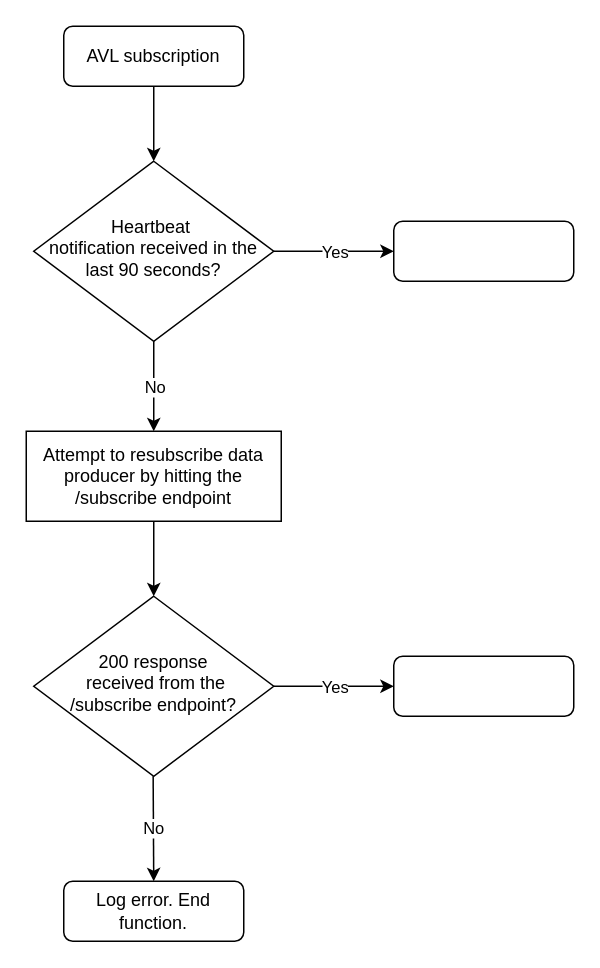
Image size: 600x968. Some labels were removed from this diagram. Each missing label, with the centre of its shape:
Do nothing. End function.: the point at 483,250
Update subscriptions table. End function.: the point at 483,685
